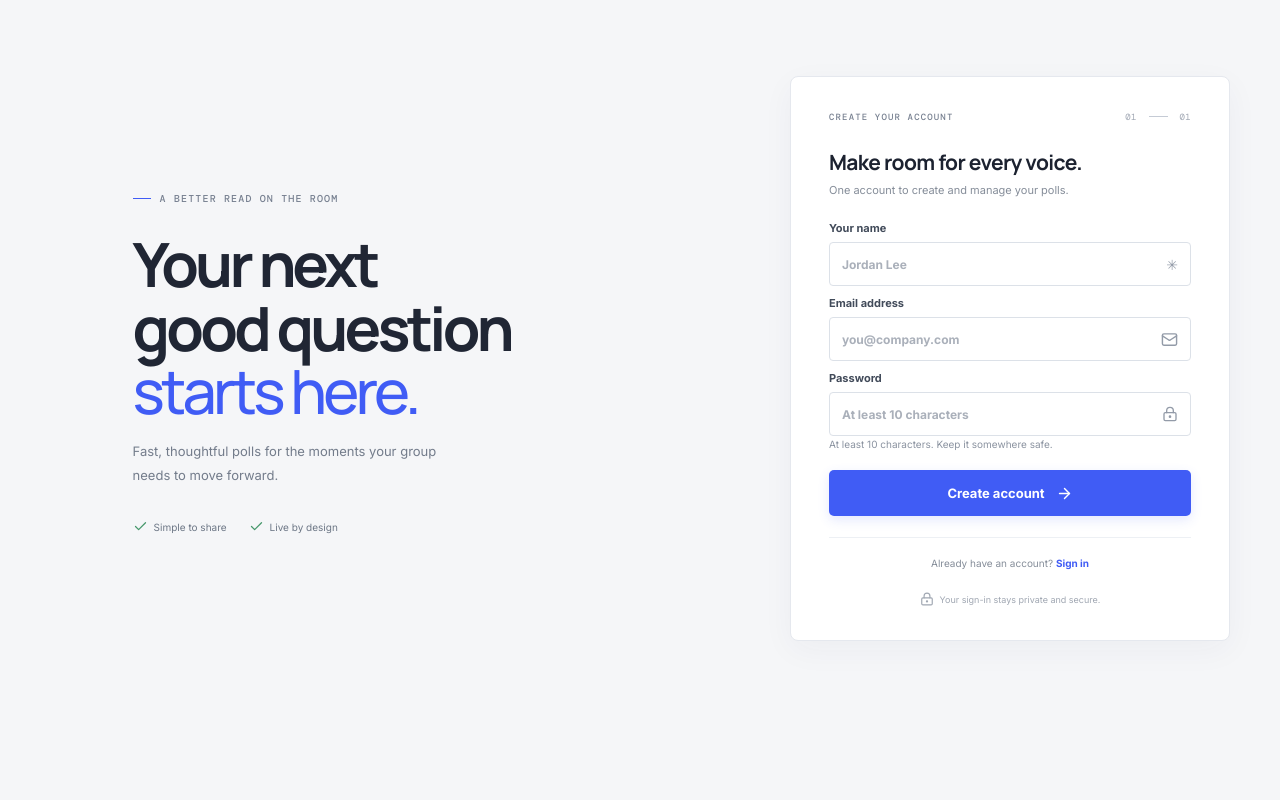
Test case: AuthPage signup form › rejects a short password before making a request
The image size is (1280, 800).
Type "Alex Doe" into the field labelled "Your name ✳". click: [1010, 264]
box: [829,242,1191,286]
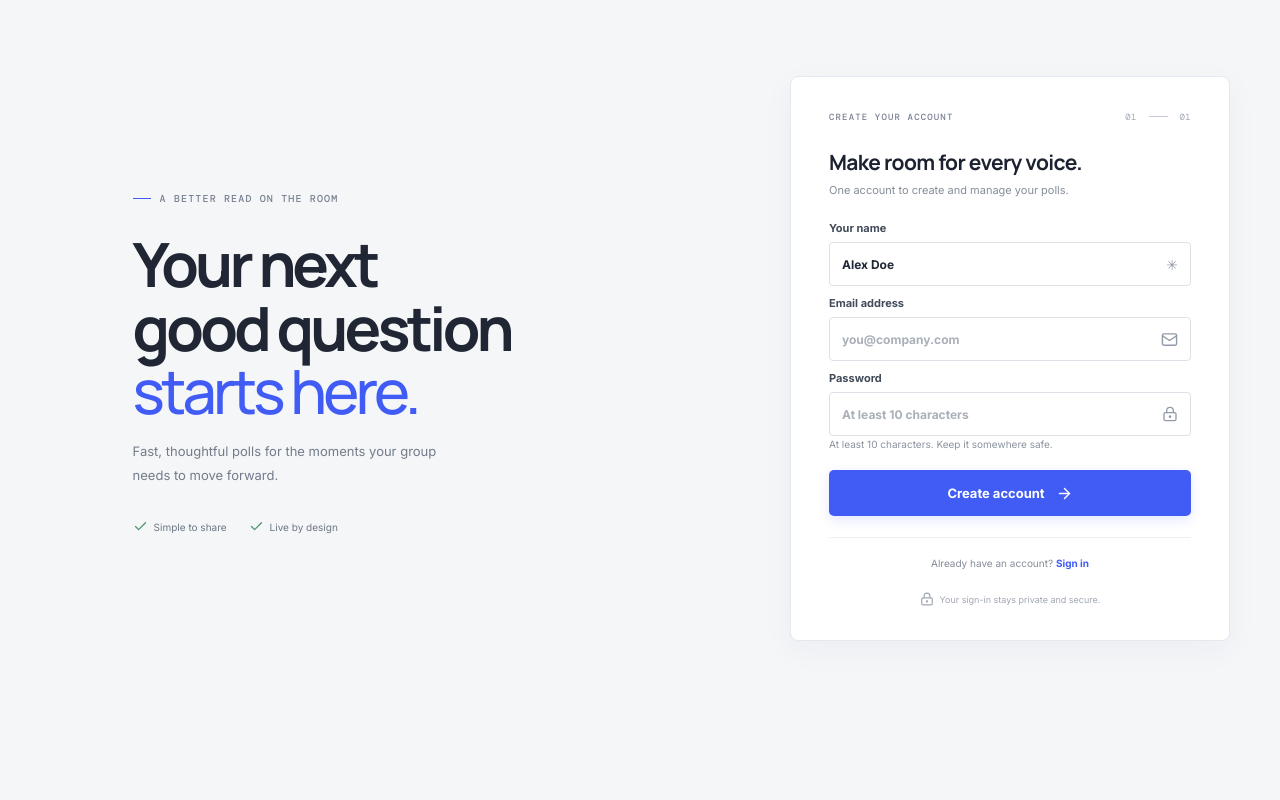
Type "alex@example.com" into the field labelled "Email address". click: [1010, 339]
box: [829,317,1191,361]
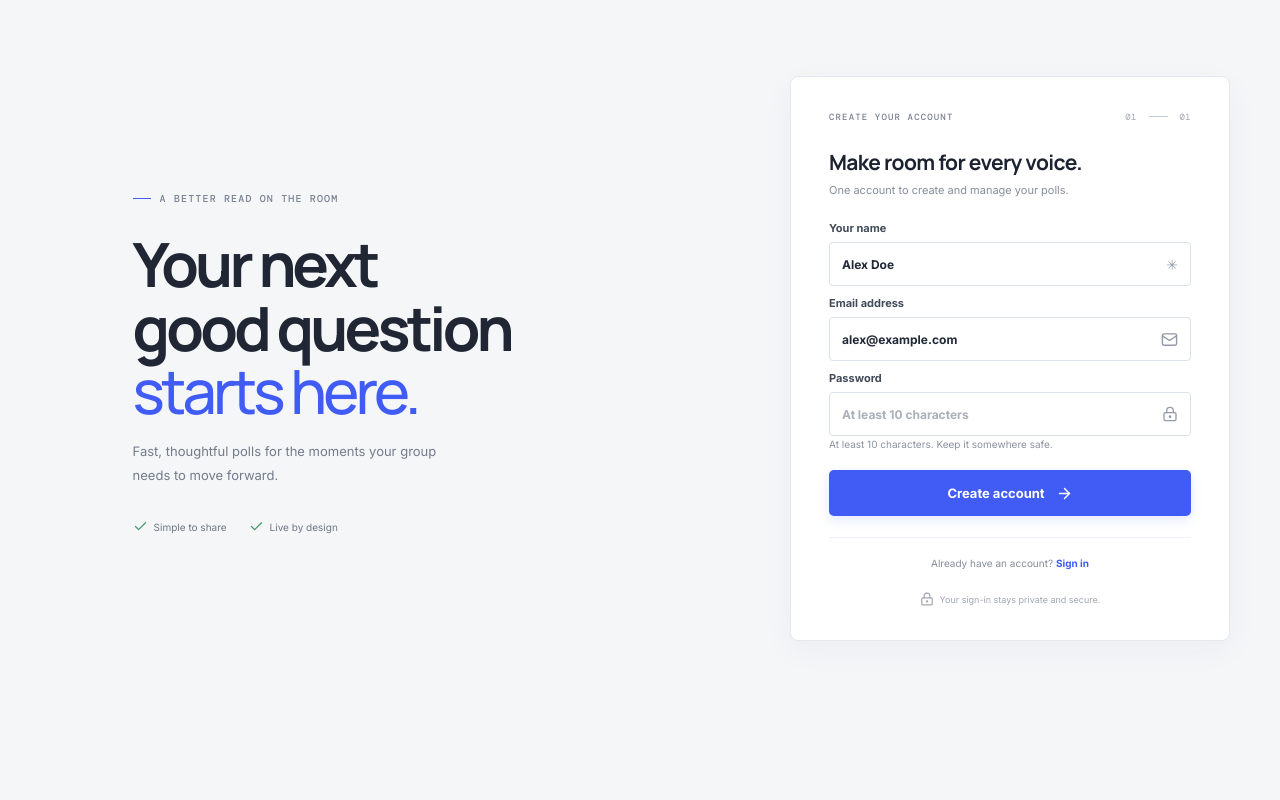
Type "short" into the password field labelled "Password". click: [1010, 414]
box: [829,392,1191,436]
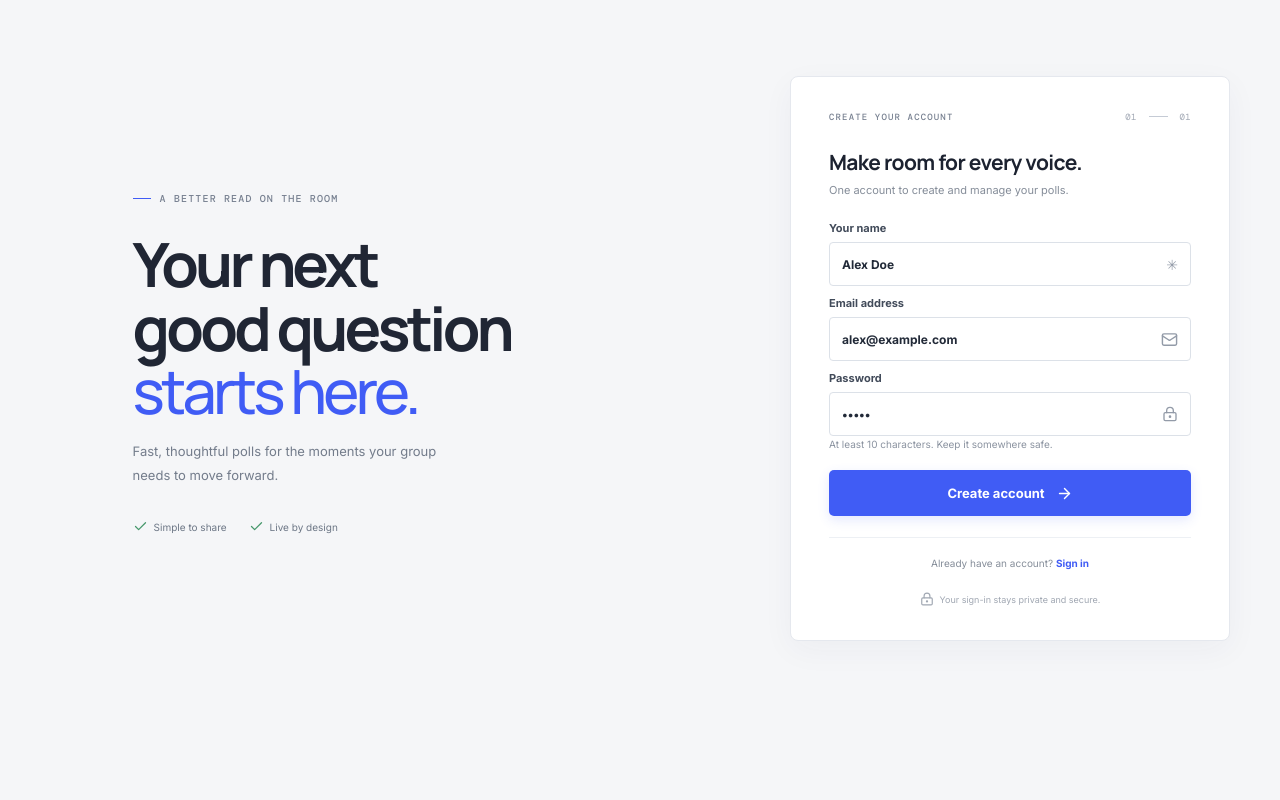
Click the button "Create account". click: [1010, 493]
box: [829,470,1191,516]
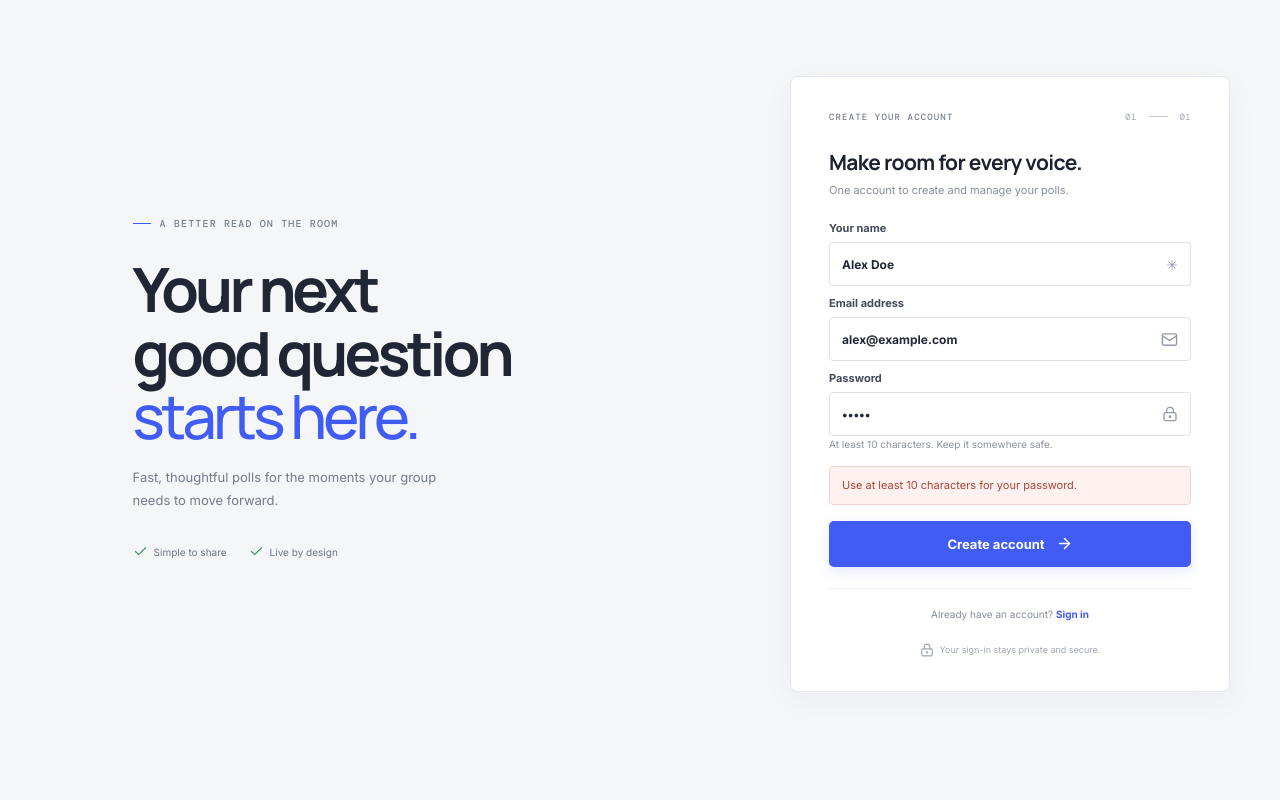
Now the message shows "at least 10 characters", box [842,478,1077,492]
